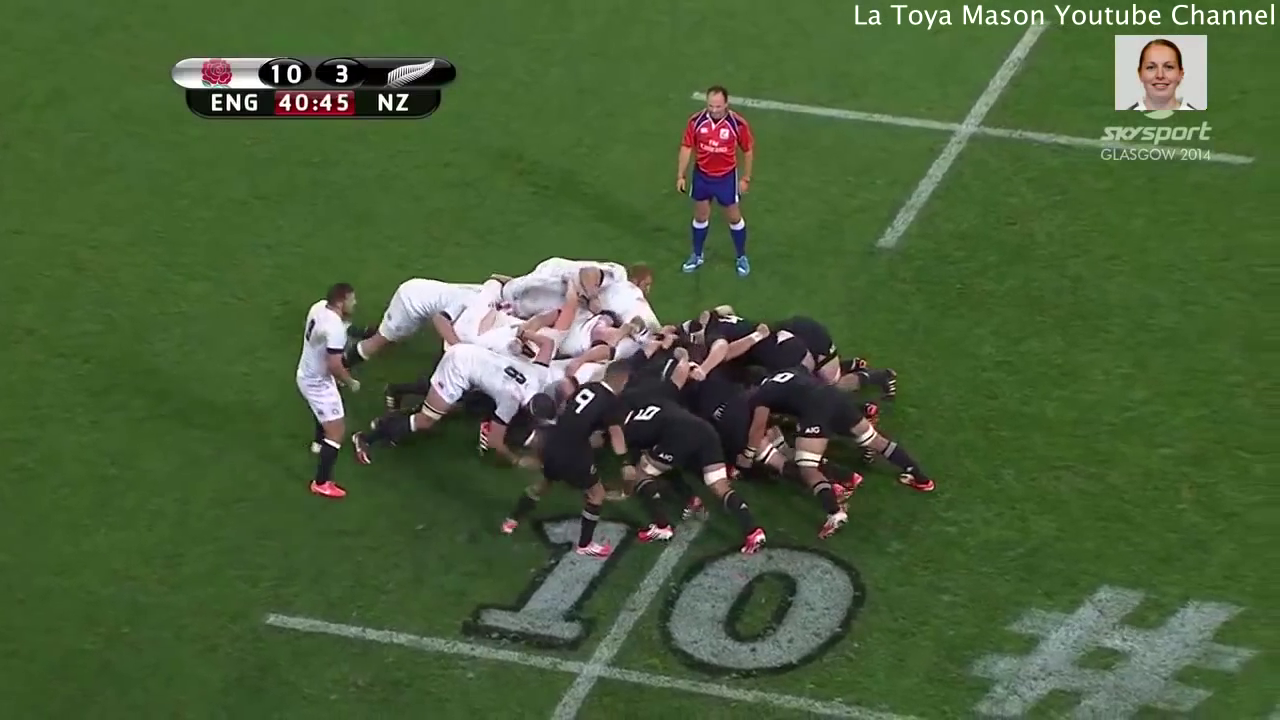10_metre: (255, 492, 954, 720), (668, 12, 1263, 255)
player: (721, 352, 942, 550), (473, 348, 641, 561), (346, 335, 559, 470), (605, 398, 773, 563), (665, 72, 765, 287), (281, 271, 365, 516), (320, 261, 477, 384)
scrum: (323, 235, 943, 559)
